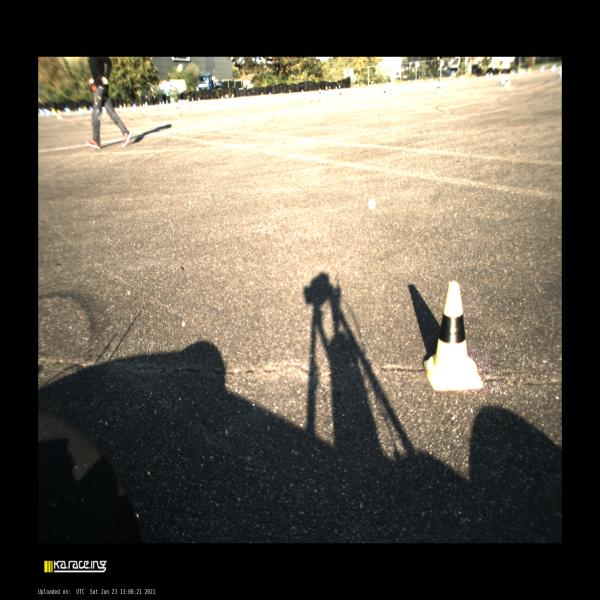blue_cone: (499, 75, 504, 84), (402, 84, 406, 92), (489, 72, 493, 79), (442, 81, 446, 88), (389, 84, 393, 91), (133, 104, 137, 110), (162, 100, 165, 106), (430, 77, 432, 84), (408, 79, 410, 86), (335, 86, 338, 90), (159, 101, 161, 106), (268, 92, 270, 95), (302, 90, 303, 92)
yellow_cone: (425, 281, 483, 391), (503, 76, 510, 87), (436, 84, 441, 94), (318, 89, 322, 96), (383, 88, 386, 96), (122, 103, 126, 109), (339, 91, 342, 98), (328, 85, 331, 91), (142, 103, 145, 109), (325, 86, 327, 92), (338, 84, 340, 90), (186, 99, 188, 105), (166, 100, 168, 105), (192, 97, 194, 102), (355, 84, 357, 88), (289, 90, 291, 94), (261, 92, 263, 96)
